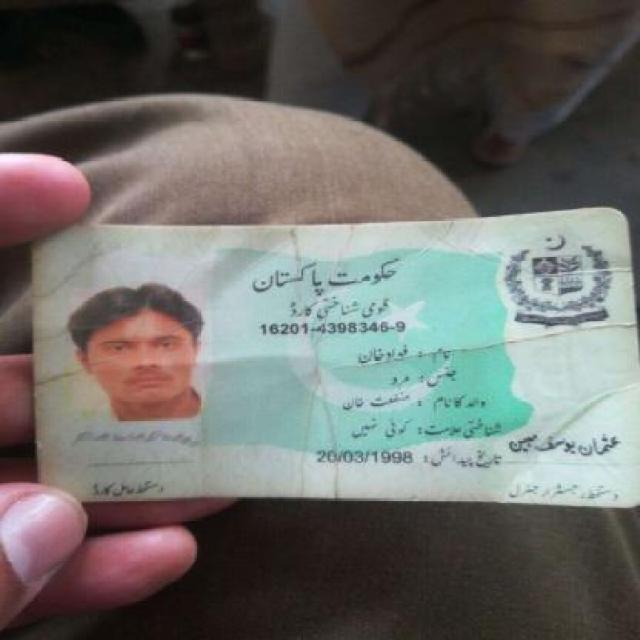Front: (14, 210, 635, 512)
